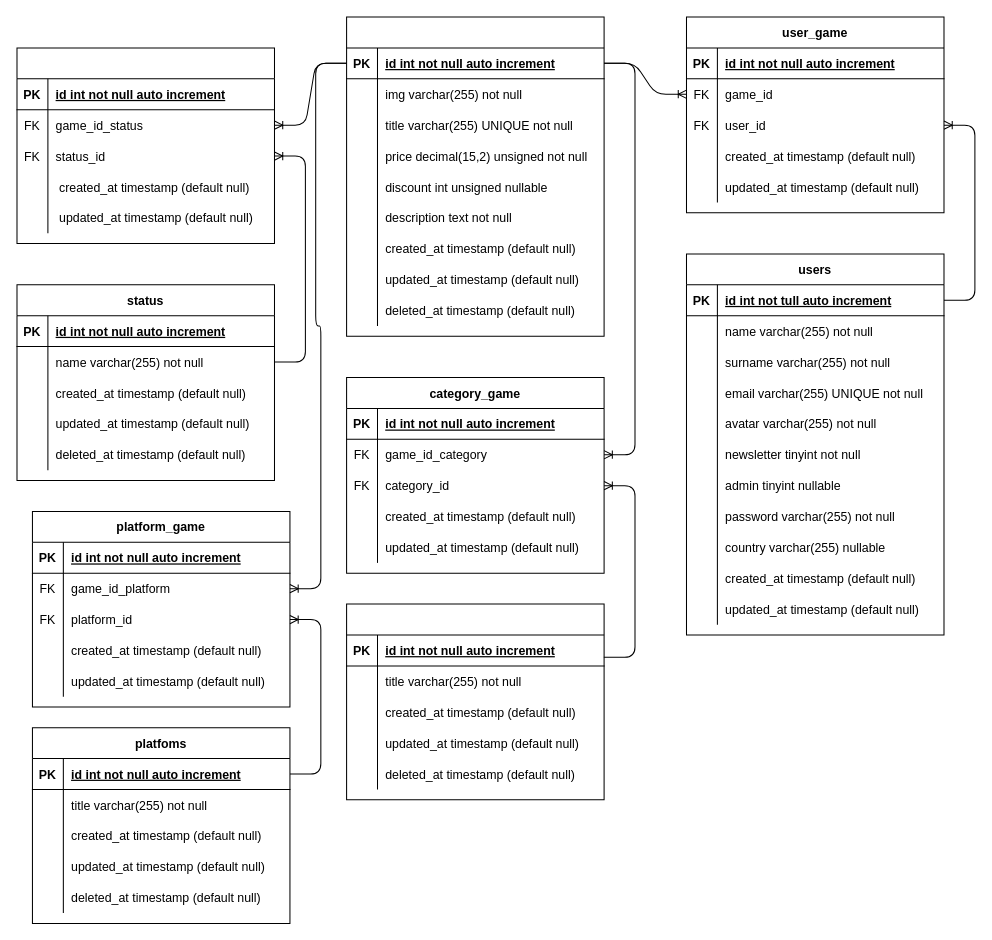
Some shapes in this 992 by 940 pixel diagram are drawn without their labels. The box of each missing label's shape, as (x1, y1, x2, y2) in pixels:
categories: (346, 603, 604, 800)
games: (346, 16, 604, 336)
status_game: (16, 47, 274, 244)
